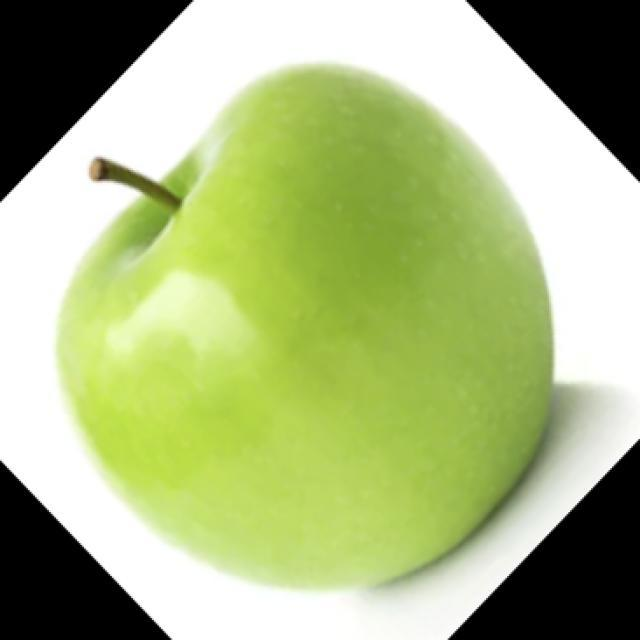Fresh Apple: (89, 70, 548, 570)
